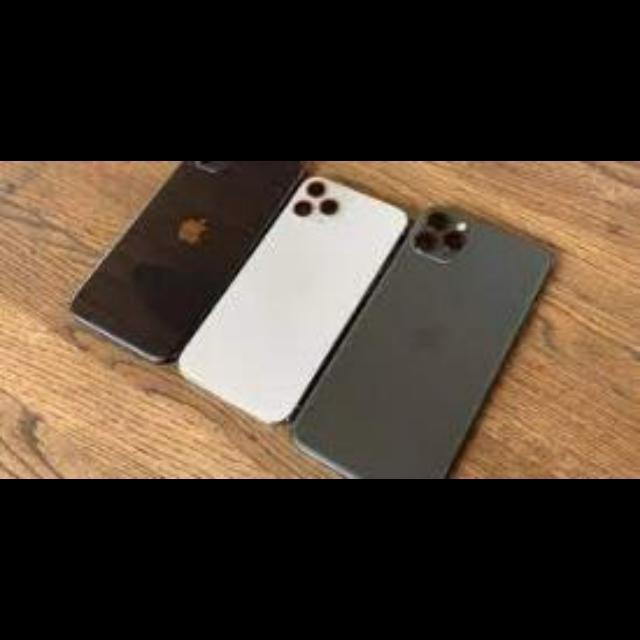PhoneUse: (304, 200, 552, 480), (189, 171, 407, 417), (71, 162, 301, 360)
